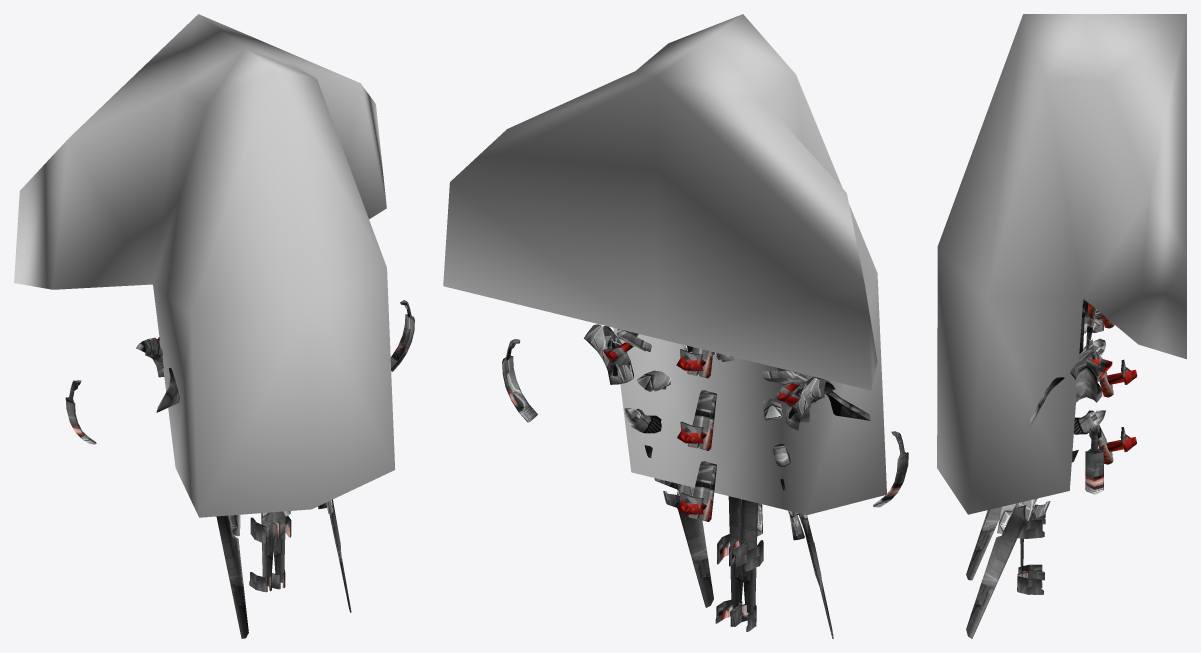
File: alien_transport_ship.fbx
3 renders of one model, left to right at view 1: azimuth 30°, elevation 25°; view 2: azimuth 150°, elevation 25°; view 3: azimuth 270°, elevation 25°, orthographic. The views are drawn at different scales.
Parts seen in each view (by area): view 1: 0000_body, 0021_l_wing, 0006_l_thruster_arm, 0017_l_tail, 0011_r_tail, 0008_r_thruster_arm, 0015_r_wing; view 2: 0000_body, 0006_l_thruster_arm, 0015_r_wing, 0008_r_thruster_arm, 0017_l_tail, 0011_r_tail, 0021_l_wing, 0019_l_pod2, 0020_l_pod3; view 3: 0000_body, 0015_r_wing, 0008_r_thruster_arm, 0021_l_wing, 0011_r_tail, 0019_l_pod2, 0020_l_pod3, 0017_l_tail.
Boxes of the visible parts, <box> form: 0000_body: <box>14,14,395,517</box>; 0021_l_wing: <box>216,514,248,638</box>; 0006_l_thruster_arm: <box>65,337,179,444</box>; 0017_l_tail: <box>249,512,280,592</box>; 0011_r_tail: <box>267,511,291,589</box>; 0008_r_thruster_arm: <box>390,300,414,371</box>; 0015_r_wing: <box>318,499,351,612</box>; 0000_body: <box>443,14,886,514</box>; 0006_l_thruster_arm: <box>762,367,908,507</box>; 0015_r_wing: <box>624,370,713,607</box>; 0008_r_thruster_arm: <box>502,324,651,422</box>; 0017_l_tail: <box>729,499,763,631</box>; 0011_r_tail: <box>715,496,748,626</box>; 0021_l_wing: <box>763,398,833,638</box>; 0019_l_pod2: <box>677,390,714,448</box>; 0020_l_pod3: <box>677,461,715,519</box>; 0000_body: <box>937,14,1186,514</box>; 0015_r_wing: <box>966,379,1105,638</box>; 0008_r_thruster_arm: <box>1030,298,1112,494</box>; 0021_l_wing: <box>966,318,1105,580</box>; 0011_r_tail: <box>1017,519,1044,594</box>; 0019_l_pod2: <box>1091,345,1137,397</box>; 0020_l_pod3: <box>1096,425,1136,464</box>; 0017_l_tail: <box>1018,504,1045,588</box>.
Size of the model in its own units: 35.77 by 50.23 by 19.11.
